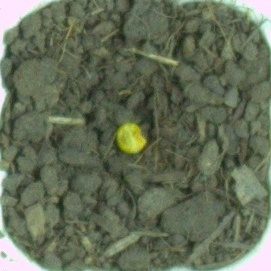chilli seed: (114, 122, 147, 154)
